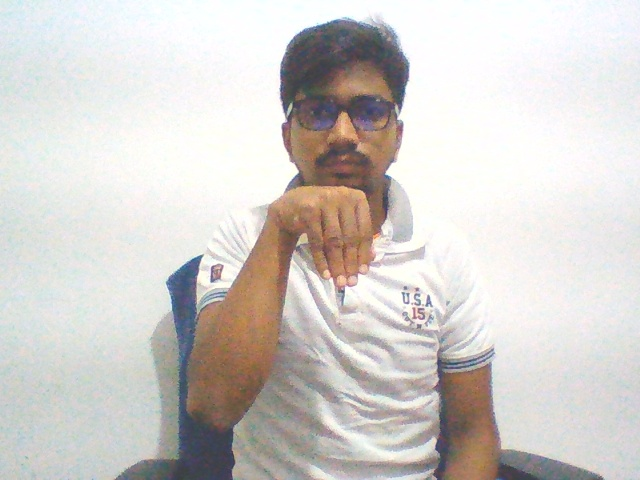Squirrel: (258, 181, 383, 298)
